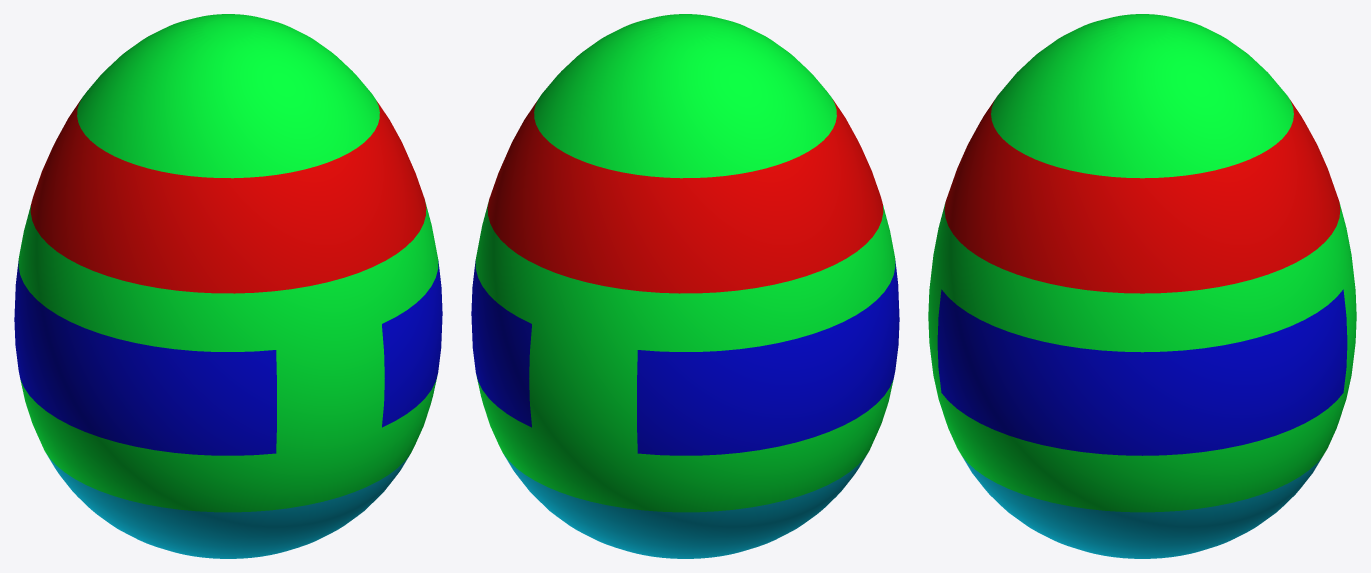
File: egg1.glb
3 renders of one model, left to right at view 1: azimuth 30°, elevation 25°; view 2: azimuth 150°, elevation 25°; view 3: azimuth 270°, elevation 25°, orthographic.
Visible parts, largest first — view 1: 12172_Egg_v1_l2.001; view 2: 12172_Egg_v1_l2.001; view 3: 12172_Egg_v1_l2.001.
Part boxes in pixels (x1,y1,x2,y2): 12172_Egg_v1_l2.001: (14, 14, 442, 558); 12172_Egg_v1_l2.001: (471, 14, 899, 558); 12172_Egg_v1_l2.001: (928, 14, 1356, 558).
Size of the model in its own units: 0.8176 by 1.08 by 0.8176.
